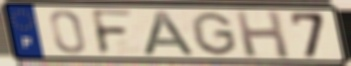0: (48, 9, 88, 55)
7: (288, 10, 327, 60)
A: (141, 9, 199, 57)
F: (88, 8, 137, 57)
G: (188, 11, 240, 57)
H: (233, 9, 294, 61)
